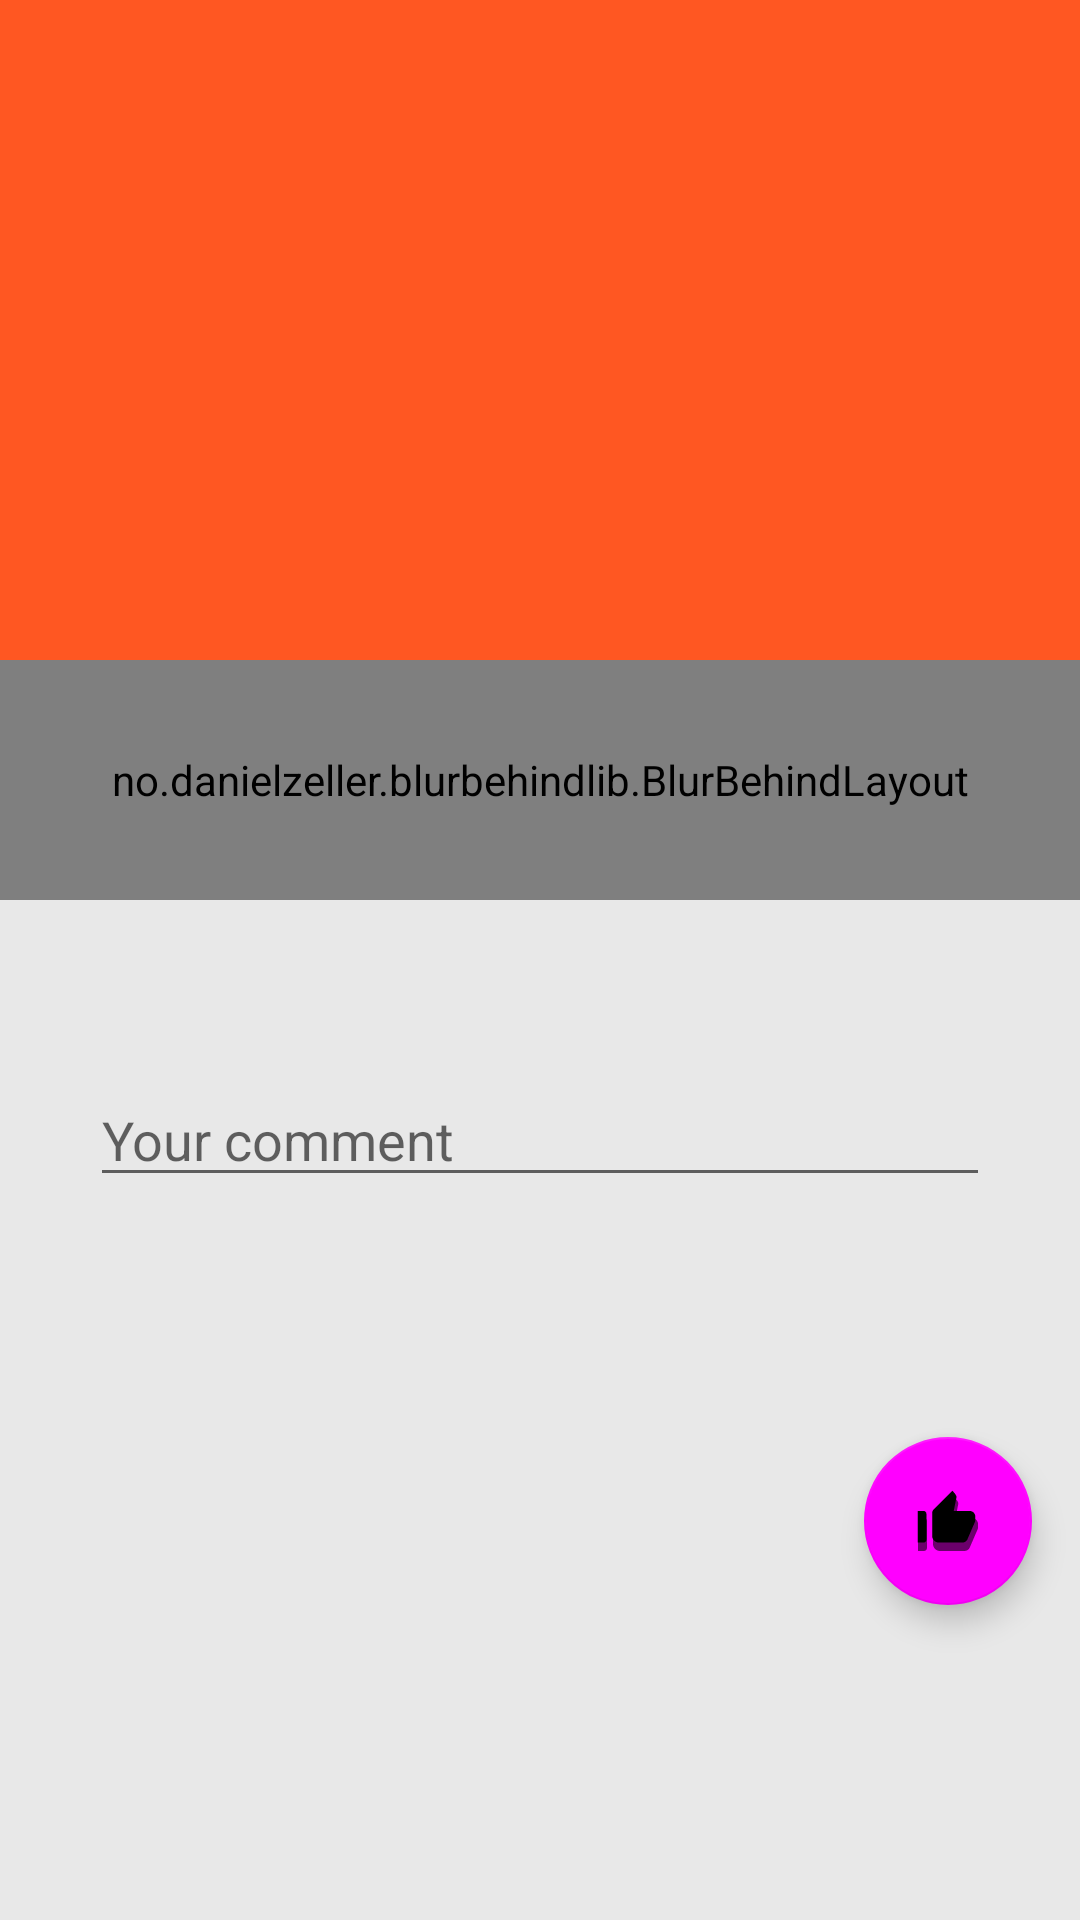

Named icons in this screenshot (1080w x 1920h) and their centers, [x,y]:
thumb up: [948,1521]
